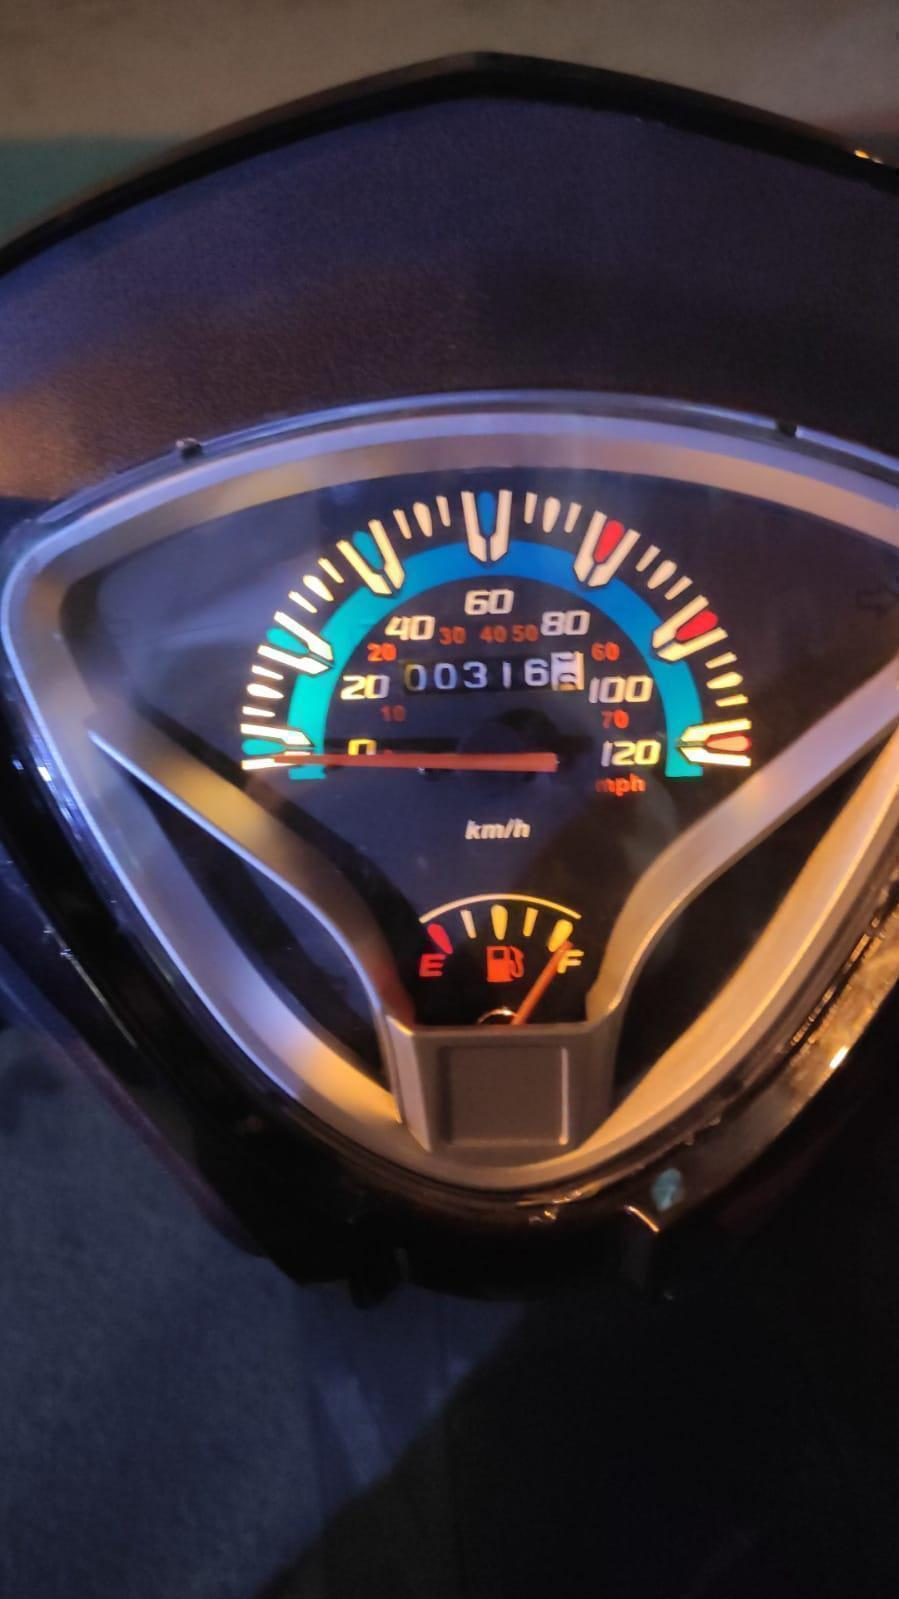0: (401, 661, 428, 692), (432, 660, 459, 691)
1: (499, 658, 514, 691)
3: (462, 658, 490, 691)
6: (522, 655, 549, 687), (557, 668, 578, 695)
odometer: (394, 651, 591, 696)
